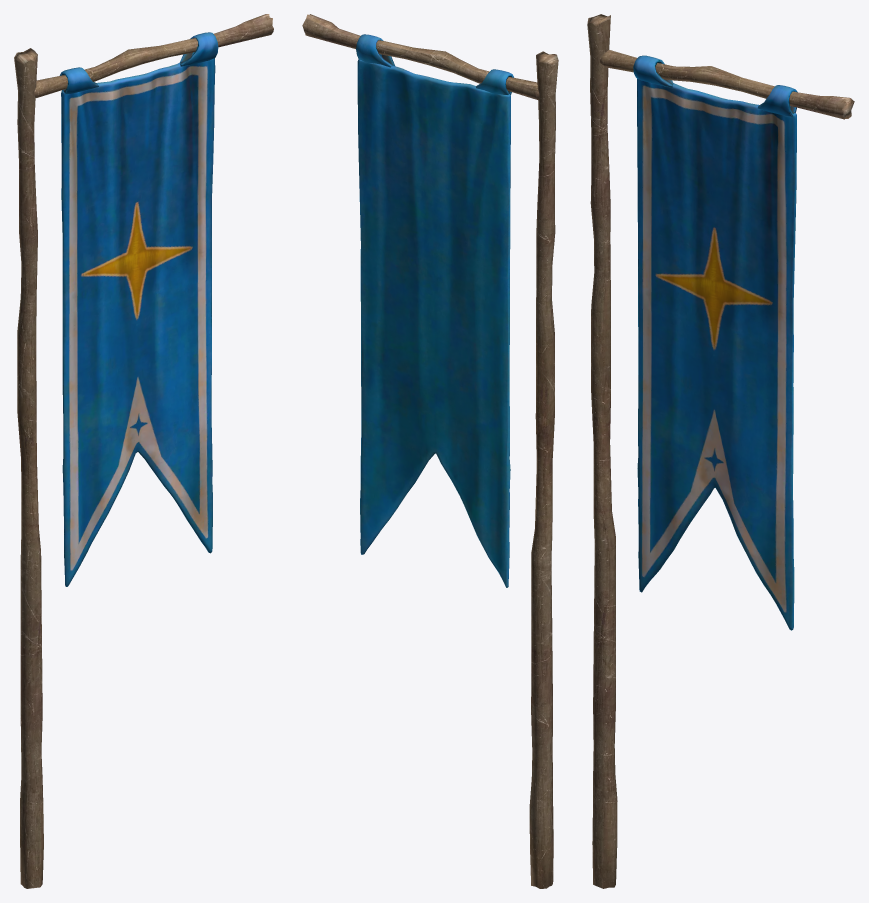
3 renders of one model, left to right at view 1: azimuth 30°, elevation 25°; view 2: azimuth 150°, elevation 25°; view 3: azimuth 330°, elevation 25°, orthographic. The views are drawn at different scales.
Visible parts, largest first — view 1: SM_Single_Banner_Saradomin_03v2_LOD0; view 2: SM_Single_Banner_Saradomin_03v2_LOD0; view 3: SM_Single_Banner_Saradomin_03v2_LOD0.
Part boxes in pixels (x1=…): SM_Single_Banner_Saradomin_03v2_LOD0: x1=14, y1=14, x2=273, y2=888; SM_Single_Banner_Saradomin_03v2_LOD0: x1=302, y1=14, x2=558, y2=888; SM_Single_Banner_Saradomin_03v2_LOD0: x1=587, y1=14, x2=854, y2=888.
Size of the model in its own units: 1.39 by 4.39 by 0.1182.
2 materials, 2 textured.
